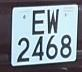2: (15, 35, 32, 66)
4: (31, 36, 45, 63)
6: (45, 34, 59, 62)
8: (59, 33, 73, 61)
E: (29, 8, 47, 37)
W: (45, 8, 61, 36)
